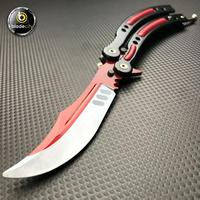knife: (3, 7, 173, 185)
